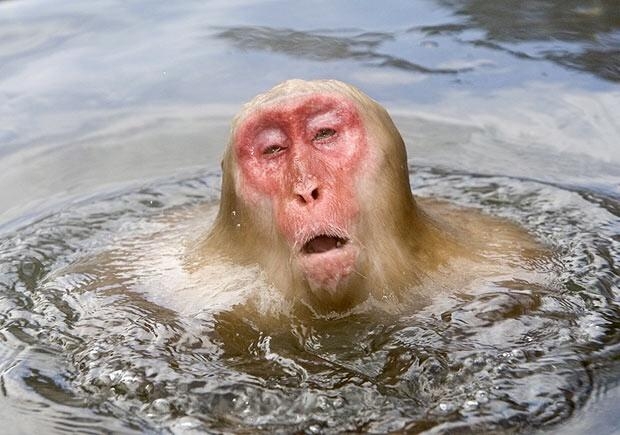monkey: (203, 79, 552, 322)
